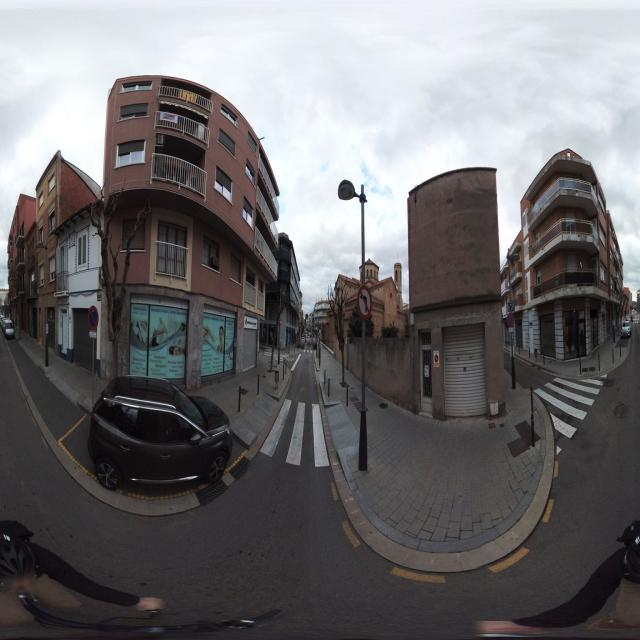forb_stopping: (88, 305, 98, 331)
forb_waiting: (506, 313, 514, 328)
